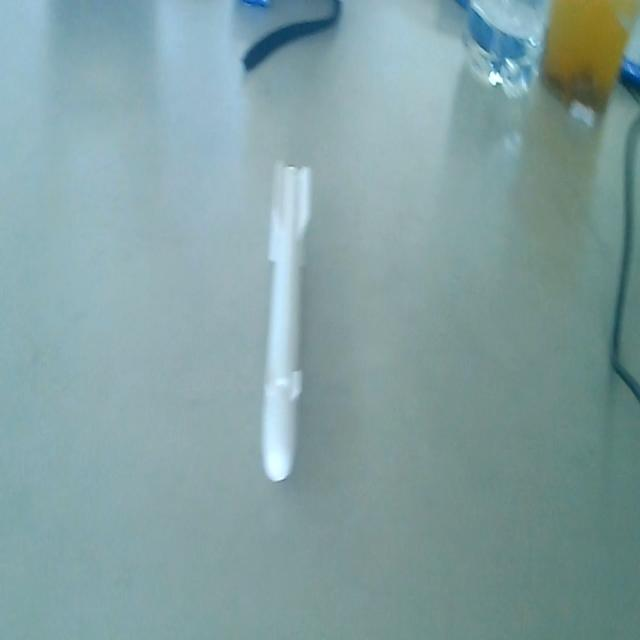Rocket: (258, 155, 316, 494)
